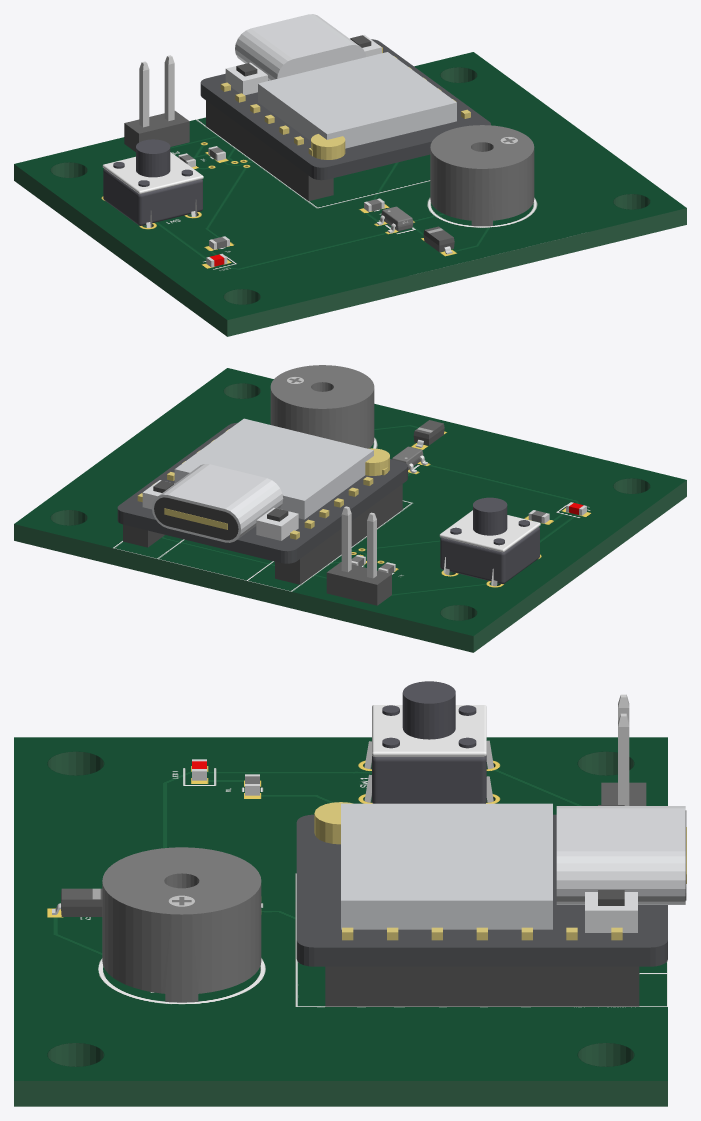
The model's file is board.glb.
3 renders of one model, top to bottom at view 1: azimuth 30°, elevation 25°; view 2: azimuth 150°, elevation 25°; view 3: azimuth 270°, elevation 25°, orthographic. The views are drawn at different scales.
Visible parts, largest first — view 1: Box0, U1, BZ1, SW1, PR1, Q1, D1; view 2: Box0, U1, BZ1, SW1, PR1, D1, Q1; view 3: Box0, U1, BZ1, SW1, PR1, D1.
Part boxes in pixels (bbox=[...]): Box0: bbox=[14, 52, 686, 336]; U1: bbox=[200, 14, 490, 201]; BZ1: bbox=[430, 125, 534, 226]; SW1: bbox=[102, 139, 203, 227]; PR1: bbox=[124, 55, 189, 151]; Q1: bbox=[376, 206, 413, 233]; D1: bbox=[423, 226, 454, 254]; Box0: bbox=[14, 368, 686, 652]; U1: bbox=[117, 418, 407, 584]; BZ1: bbox=[270, 365, 374, 448]; SW1: bbox=[439, 497, 540, 586]; PR1: bbox=[326, 506, 391, 605]; D1: bbox=[413, 420, 444, 447]; Q1: bbox=[392, 446, 427, 473]; Box0: bbox=[14, 737, 667, 1106]; U1: bbox=[296, 802, 686, 1006]; BZ1: bbox=[102, 847, 261, 1002]; SW1: bbox=[364, 681, 493, 803]; PR1: bbox=[601, 694, 646, 805]; D1: bbox=[52, 888, 102, 916].
Bounding box in the file's own units: 46 × 12.5 × 38.08.
22 materials, 2 textured.
